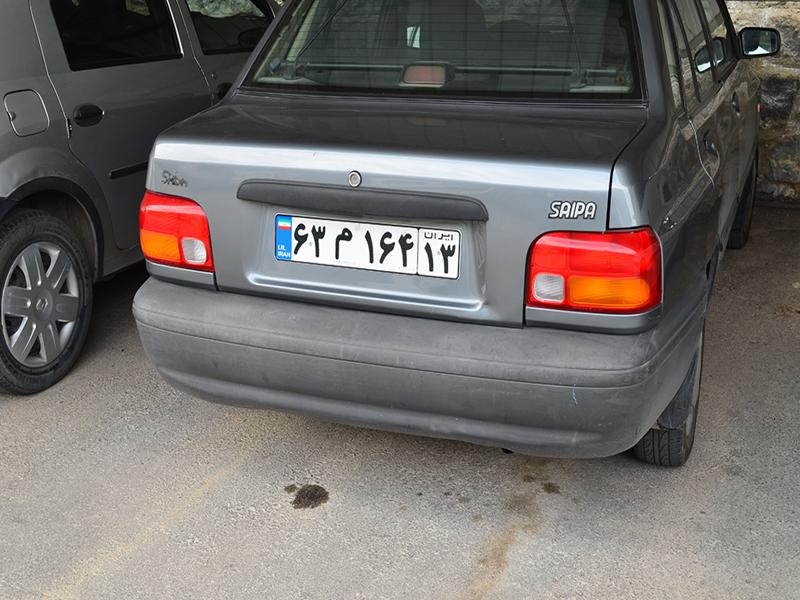Plate: (271, 214, 458, 285)
